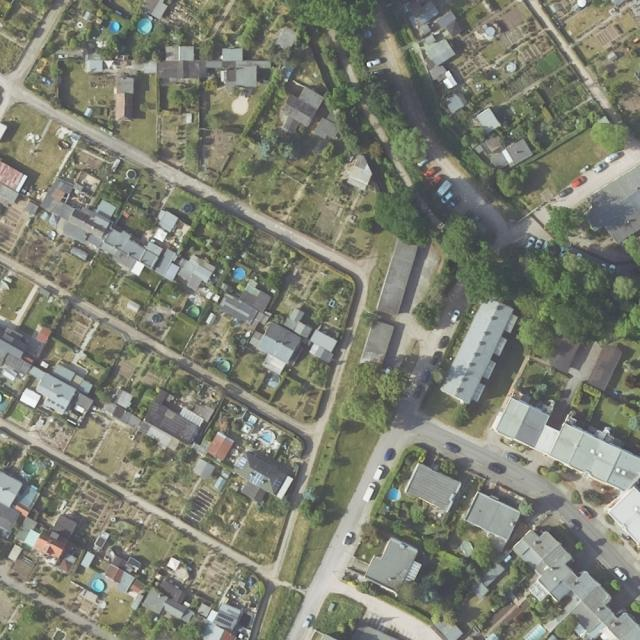PV: (248, 470, 266, 487), (216, 611, 235, 627), (271, 476, 284, 489), (236, 456, 248, 470)
ST: (46, 397, 66, 410)
